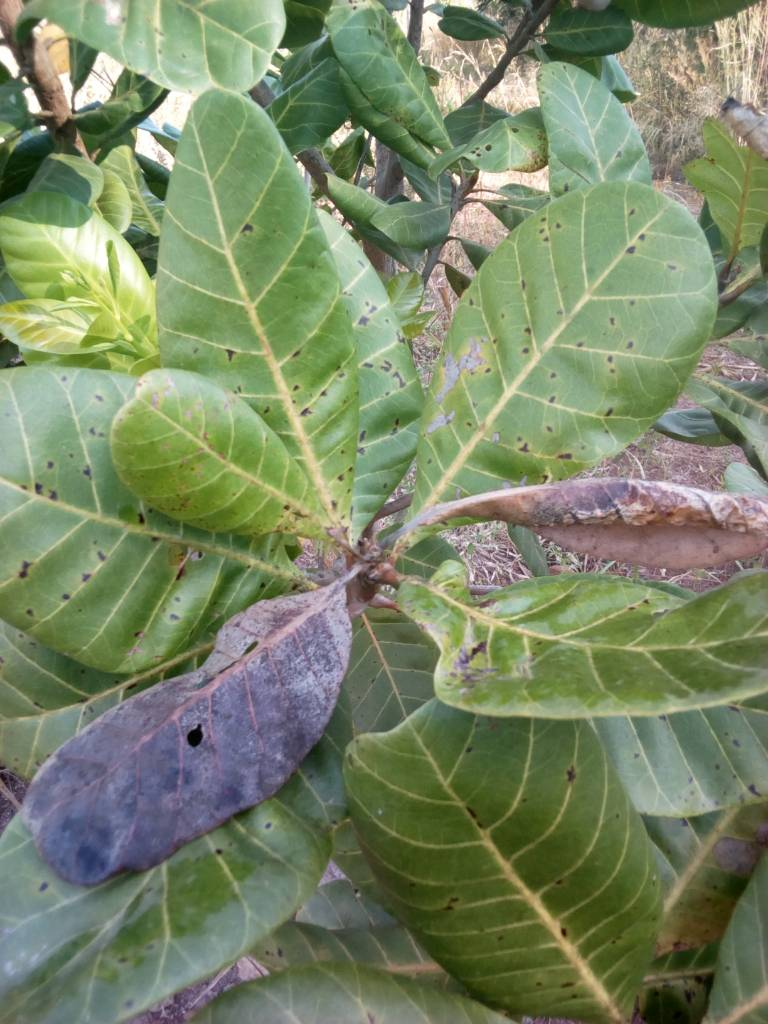Anthracnose: (408, 183, 724, 546), (4, 361, 363, 666), (349, 705, 655, 1017), (99, 363, 358, 553)
